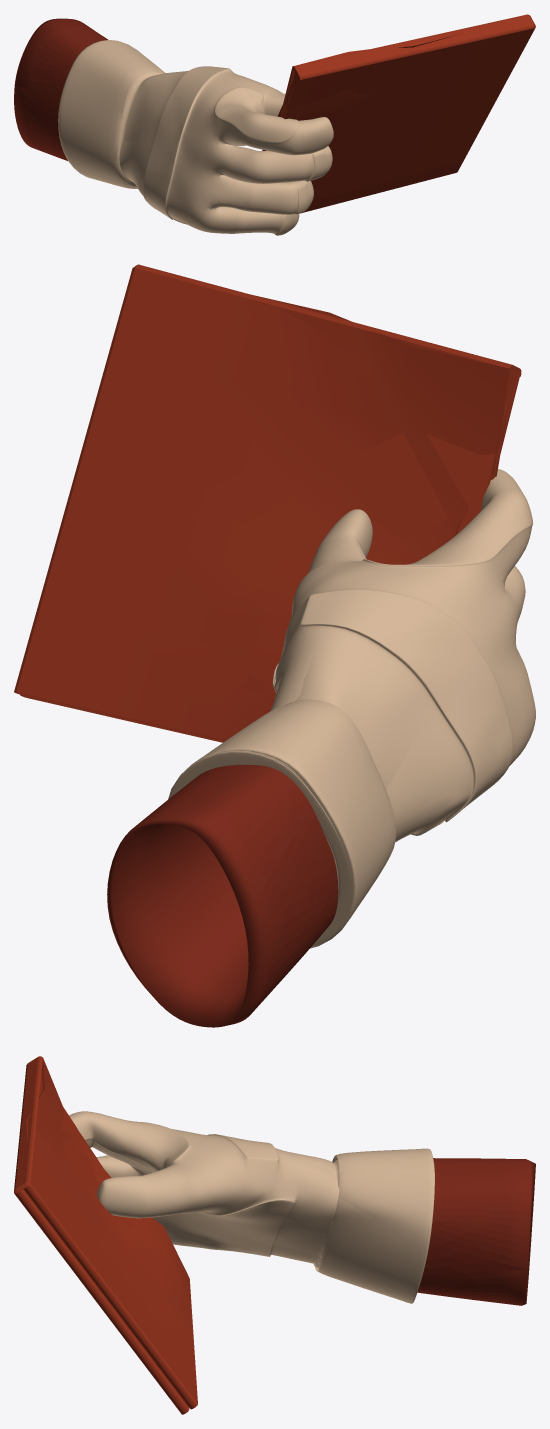
The model's file is glove-with-safety-blanket.fbx.
The picture shows the model from 3 angles, top to bottom: view 1: azimuth 30°, elevation 25°; view 2: azimuth 150°, elevation 25°; view 3: azimuth 270°, elevation 25°; orthographic projection. The views are drawn at different scales.
Visible parts, largest first — view 1: WorkGloves_RightWorkGloves, Cube_Cube.001, gloves.001_Cube.001; view 2: Cube_Cube.001, WorkGloves_RightWorkGloves, gloves.001_Cube.001; view 3: WorkGloves_RightWorkGloves, Cube_Cube.001, gloves.001_Cube.001.
Part boxes in pixels (bbox=[...]): WorkGloves_RightWorkGloves: bbox=[58, 40, 333, 235]; Cube_Cube.001: bbox=[262, 14, 535, 213]; gloves.001_Cube.001: bbox=[14, 18, 108, 160]; Cube_Cube.001: bbox=[14, 264, 521, 742]; WorkGloves_RightWorkGloves: bbox=[168, 469, 535, 948]; gloves.001_Cube.001: bbox=[107, 765, 338, 1027]; WorkGloves_RightWorkGloves: bbox=[69, 1111, 434, 1303]; Cube_Cube.001: bbox=[14, 1056, 197, 1414]; gloves.001_Cube.001: bbox=[417, 1158, 535, 1305].
Bounding box in the file's own units: 920 × 669 × 1219.
